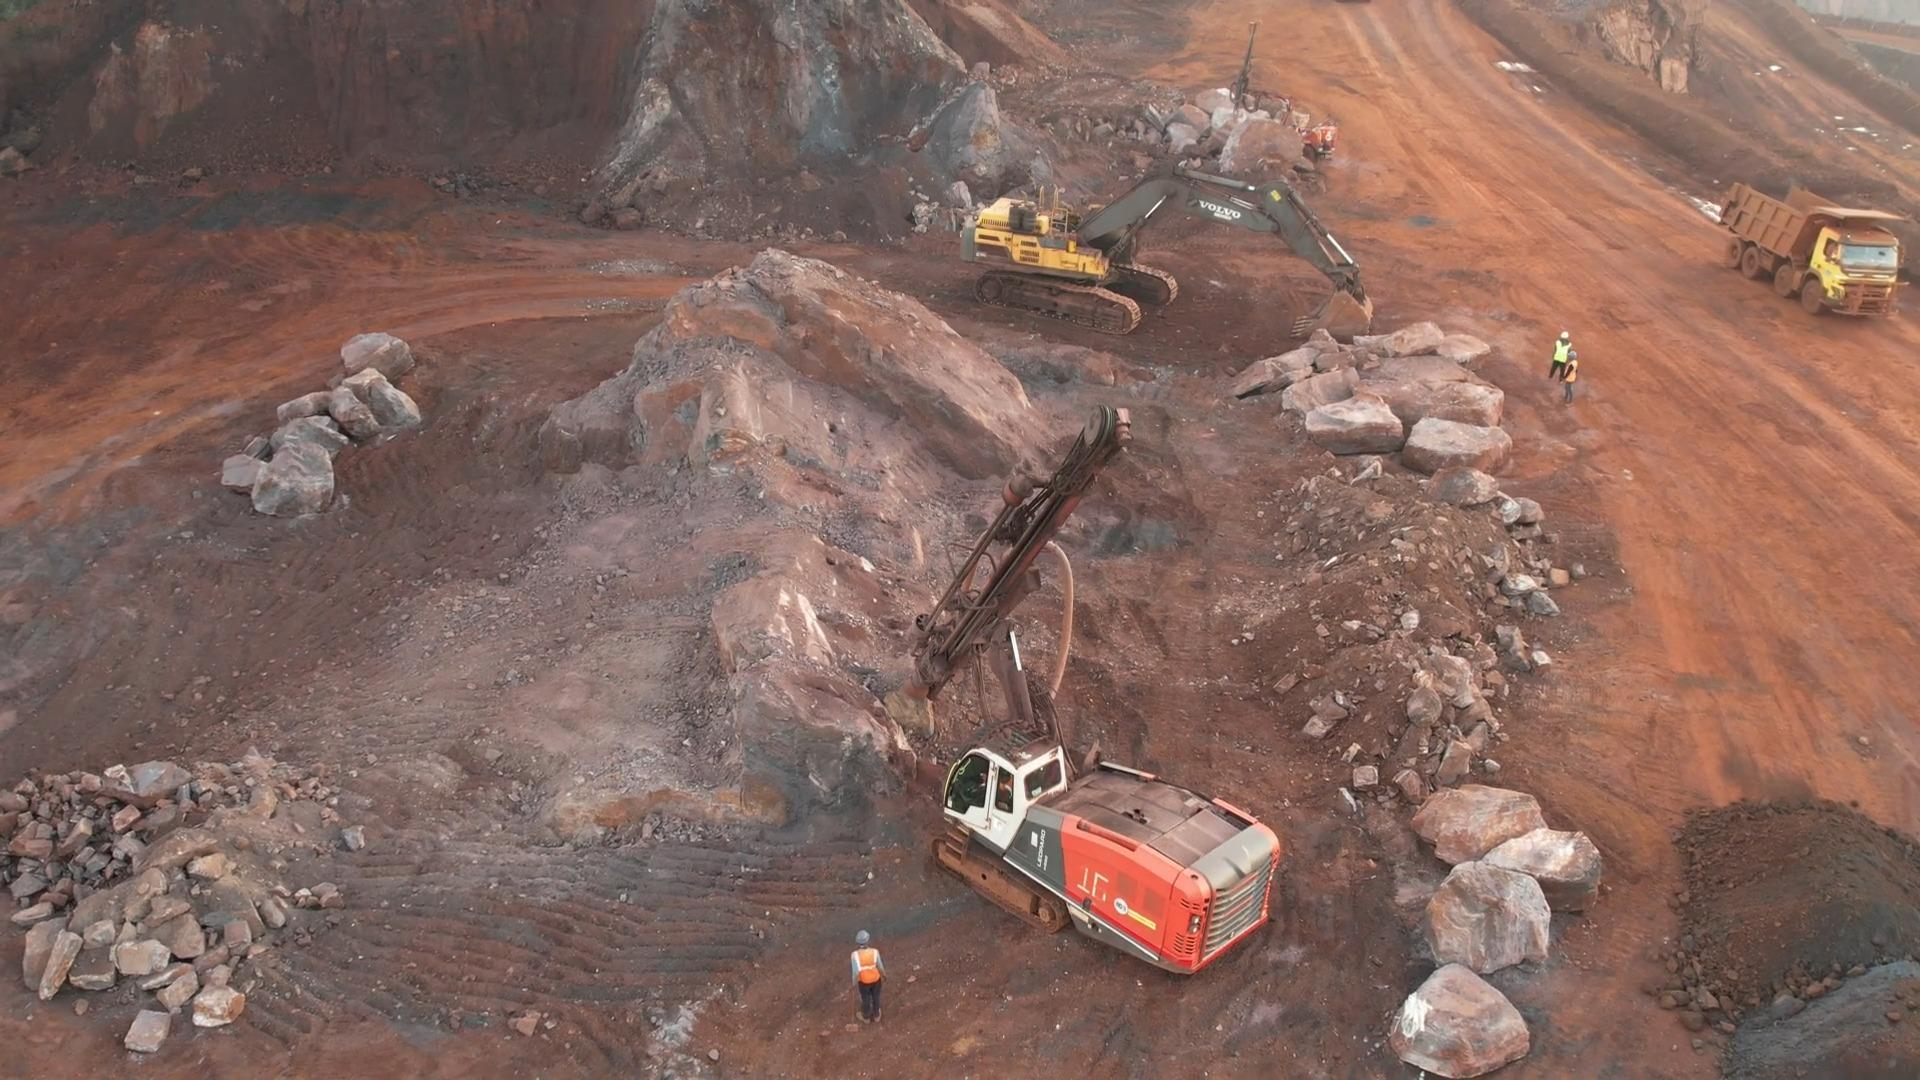excavator: (968, 185, 1359, 321)
